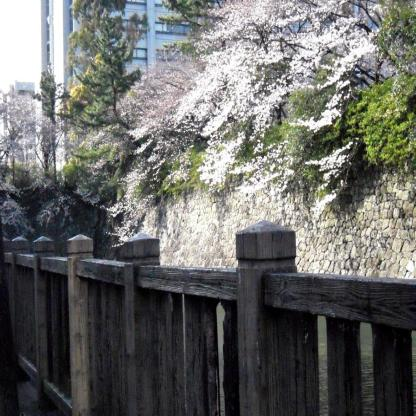Someiyoshino: (82, 1, 375, 238), (1, 89, 70, 227)
